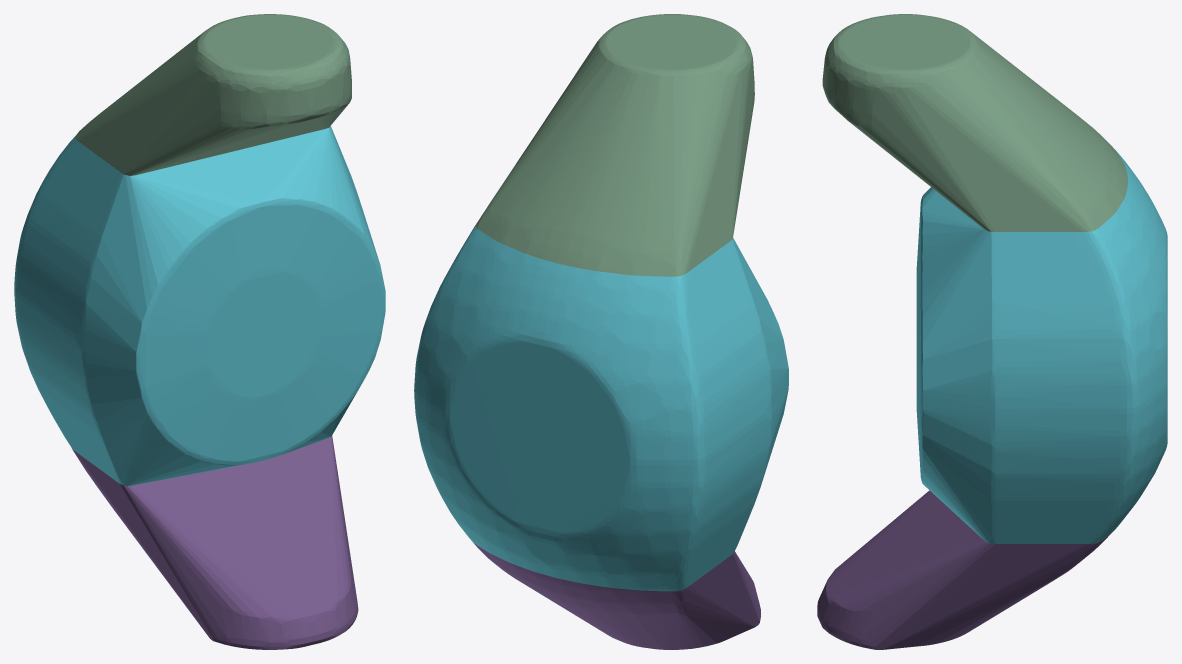
Rendered from head_l1.obj.
3 renders of one model, left to right at view 1: azimuth 30°, elevation 25°; view 2: azimuth 150°, elevation 25°; view 3: azimuth 270°, elevation 25°, orthographic.
Parts seen in each view (by area): view 1: geometry_2, geometry_1, geometry_0; view 2: geometry_2, geometry_0, geometry_1; view 3: geometry_2, geometry_0, geometry_1.
Part boxes in pixels (x1=…): geometry_2: x1=14, y1=126, x2=385, y2=485; geometry_1: x1=72, y1=435, x2=358, y2=649; geometry_0: x1=75, y1=14, x2=351, y2=175; geometry_2: x1=414, y1=225, x2=788, y2=591; geometry_0: x1=475, y1=14, x2=754, y2=276; geometry_1: x1=473, y1=542, x2=760, y2=649; geometry_2: x1=916, y1=151, x2=1167, y2=543; geometry_0: x1=822, y1=14, x2=1127, y2=231; geometry_1: x1=817, y1=490, x2=1115, y2=649.
Size of the model in its own units: 0.0796 by 0.1518 by 0.0839.
